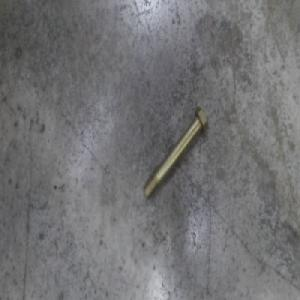Bolt: (142, 103, 209, 200)
